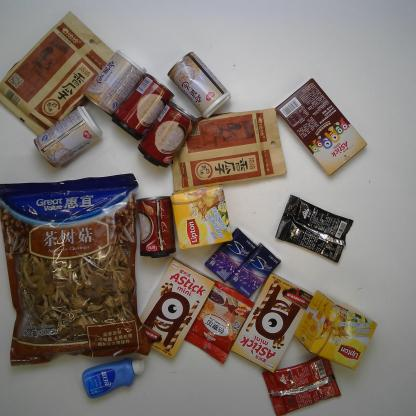Canned Food: (110, 72, 176, 141), (166, 51, 232, 119), (33, 105, 103, 168), (83, 50, 147, 117), (137, 101, 198, 168), (135, 196, 177, 259)
Dessert: (275, 78, 368, 176), (230, 271, 313, 374), (138, 256, 216, 359)
Dried Food: (0, 172, 152, 367), (0, 11, 117, 136), (171, 107, 288, 192)
Gum: (227, 242, 282, 299), (204, 227, 259, 283)
Instant Drink: (294, 289, 378, 370), (184, 280, 255, 364), (275, 193, 353, 264), (262, 355, 342, 416), (170, 183, 234, 250)
Personal Hygiene: (81, 356, 146, 400)
